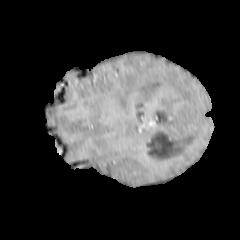glioma: (116, 68, 197, 131)
